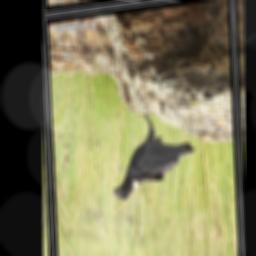Crow: (109, 106, 197, 203)
